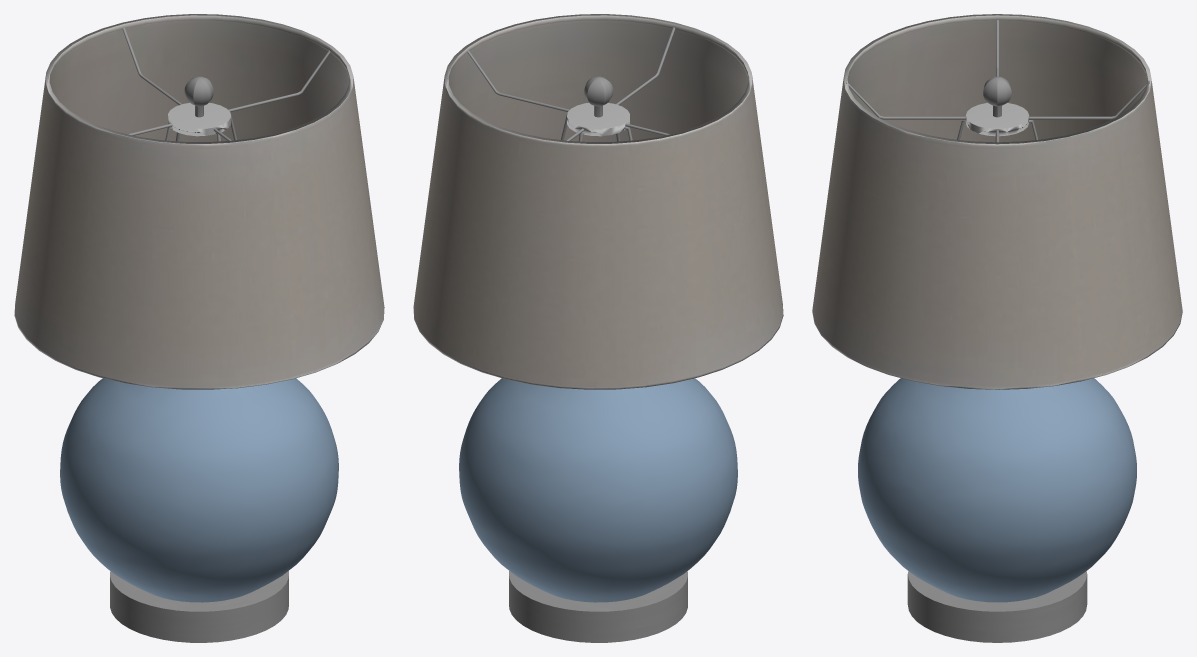
File: B07GNNPB38.glb
3 views of the same model, side by side, from view 1: azimuth 30°, elevation 25°; view 2: azimuth 150°, elevation 25°; view 3: azimuth 270°, elevation 25° (orthographic).
Parts seen in each view (by area): view 1: RootNode; view 2: RootNode; view 3: RootNode.
Part boxes in pixels (x1=…): RootNode: x1=14, y1=14, x2=384, y2=642; RootNode: x1=413, y1=14, x2=783, y2=642; RootNode: x1=812, y1=14, x2=1182, y2=642.
Size of the model in its own units: 0.2467 by 0.3873 by 0.2467.
Materials: 1 (1 with a texture image).
